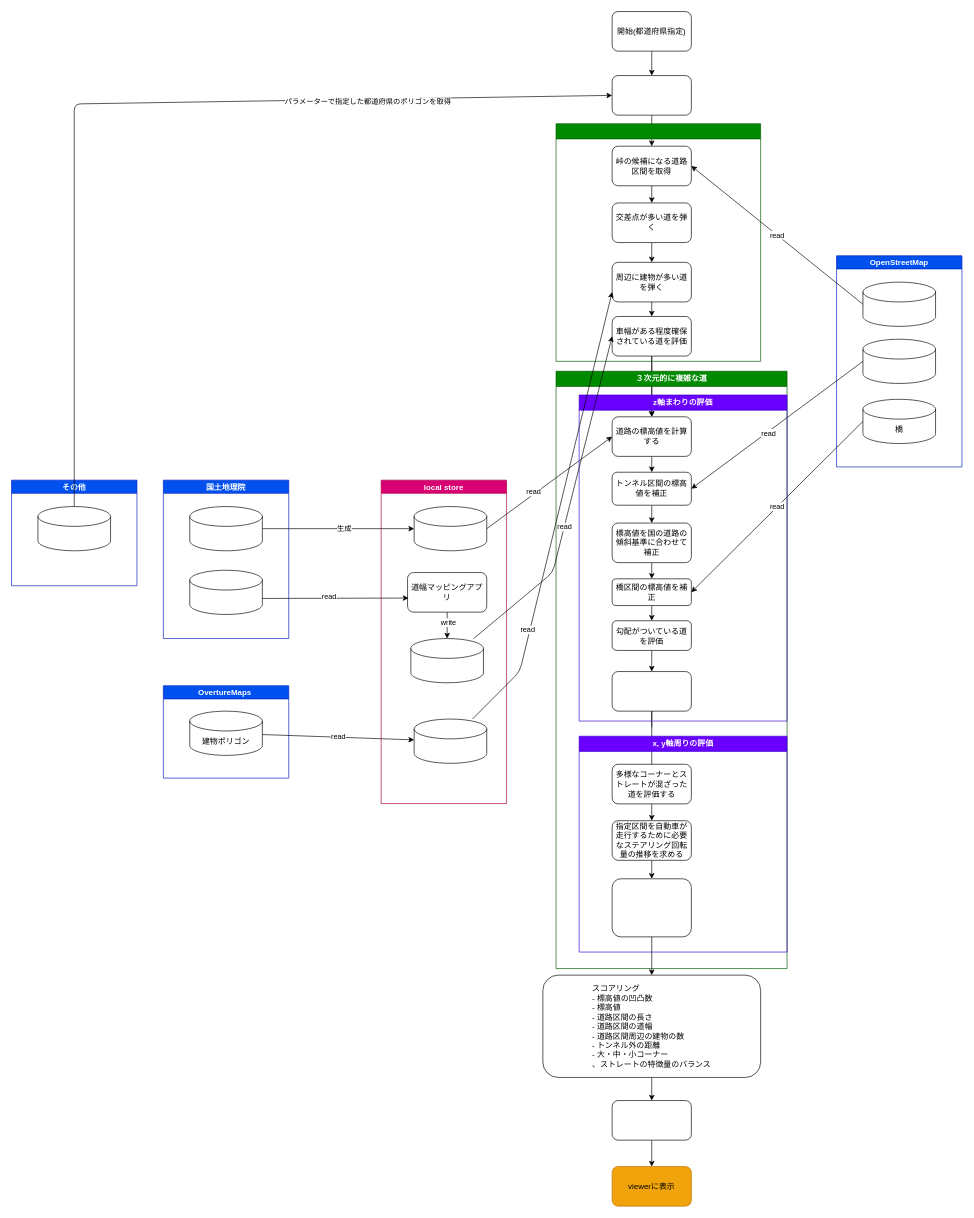
The diagram is 974 pixels wide and 1218 high, and some of its shapes have lost their labels. Each missing label, with the centre of its shape:
"トンネル" goes at point 899,361.
"建物ポリゴンDB" goes at point 450,740.
"指定した都道府県のポリゴンを取得" goes at point 651,95.
"標高モデル" goes at point 225,528.
"標高モデル(GeoTiff)" goes at point 450,528.
"波打つような坂が多い道を評価" goes at point 651,691.
"県単位のポリゴン" goes at point 74,528.
"結果をjsonに出力" goes at point 651,1120.
"衛生写真" goes at point 225,592.
"走りやすい道" goes at point 658,242.
"道幅DB" goes at point 446,660.
"道路ネットワーク" goes at point 899,303.
"高速コーナー、中速コーナー、低速コーナー、ストレートの区間を求めて複雑性の高い道を求める" goes at point 651,907.
